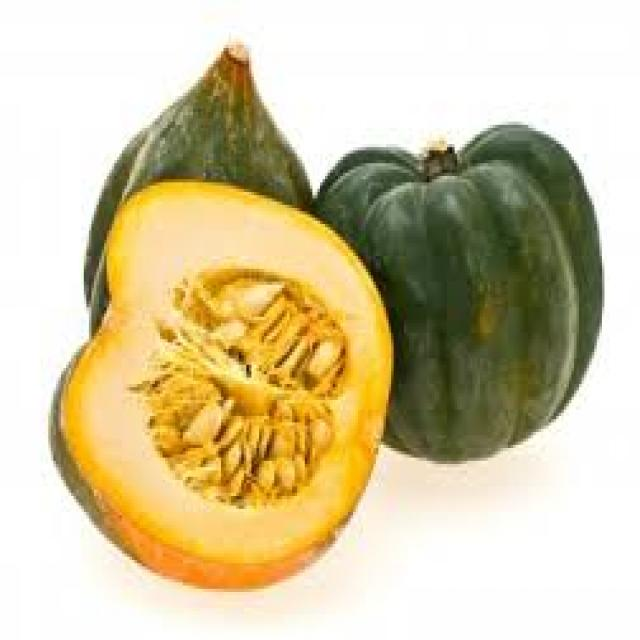organic waste: (46, 172, 391, 586), (310, 118, 602, 461), (81, 32, 310, 310)
